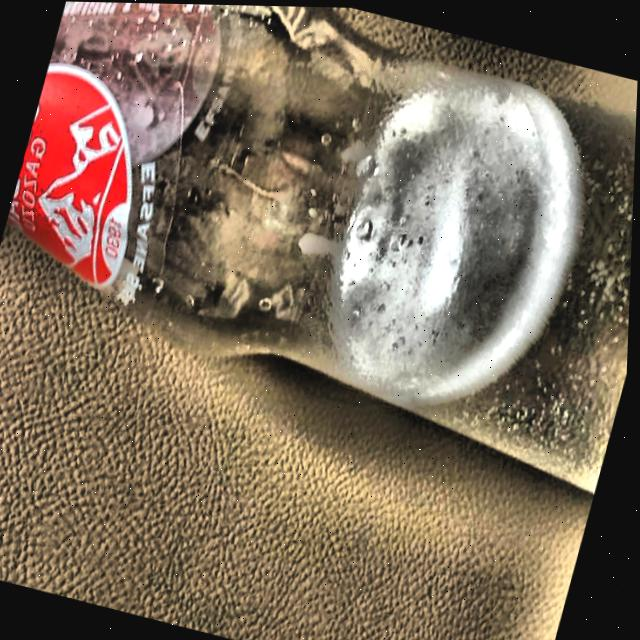plastic: (9, 1, 637, 491)
